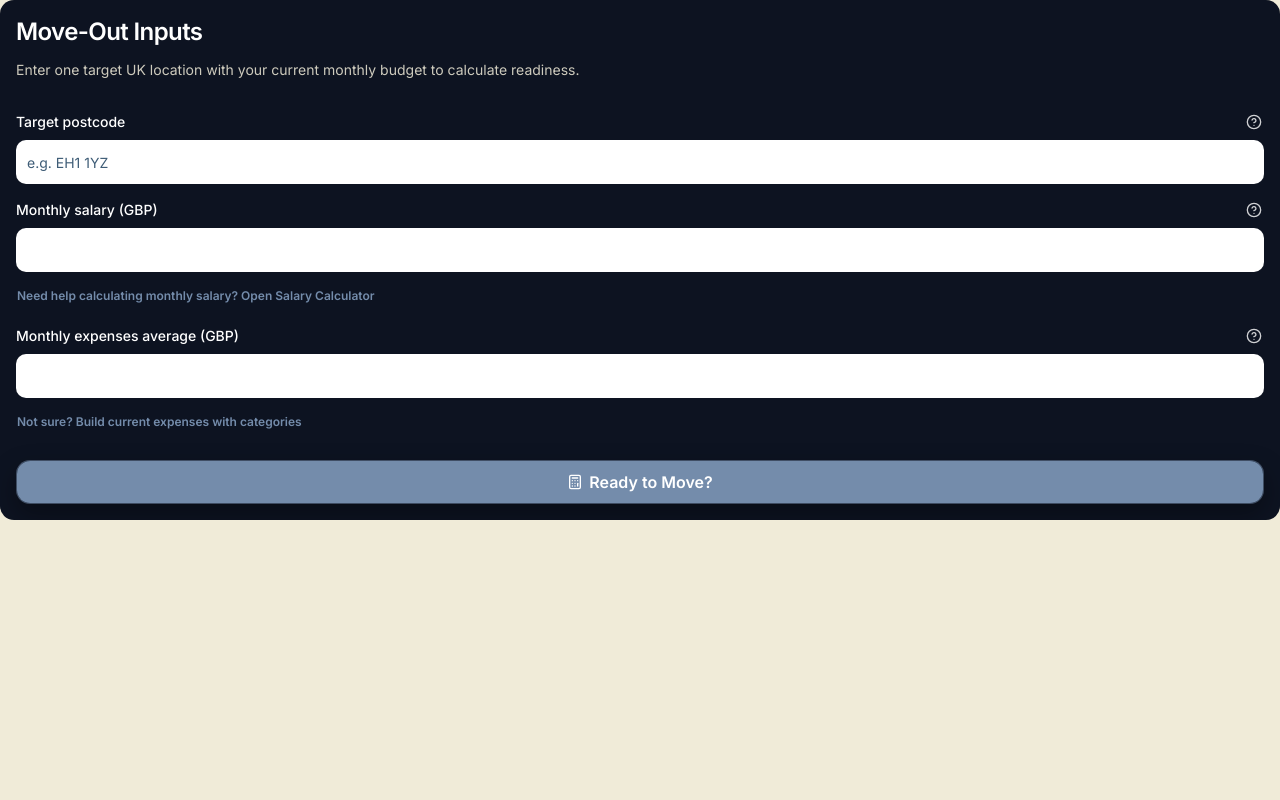
Scenario: MoveOutReadinessInputCard › shows local validation errors for required postcode and positive income
Click the button "Ready to Move?": (640, 482) [16, 460, 1264, 504]
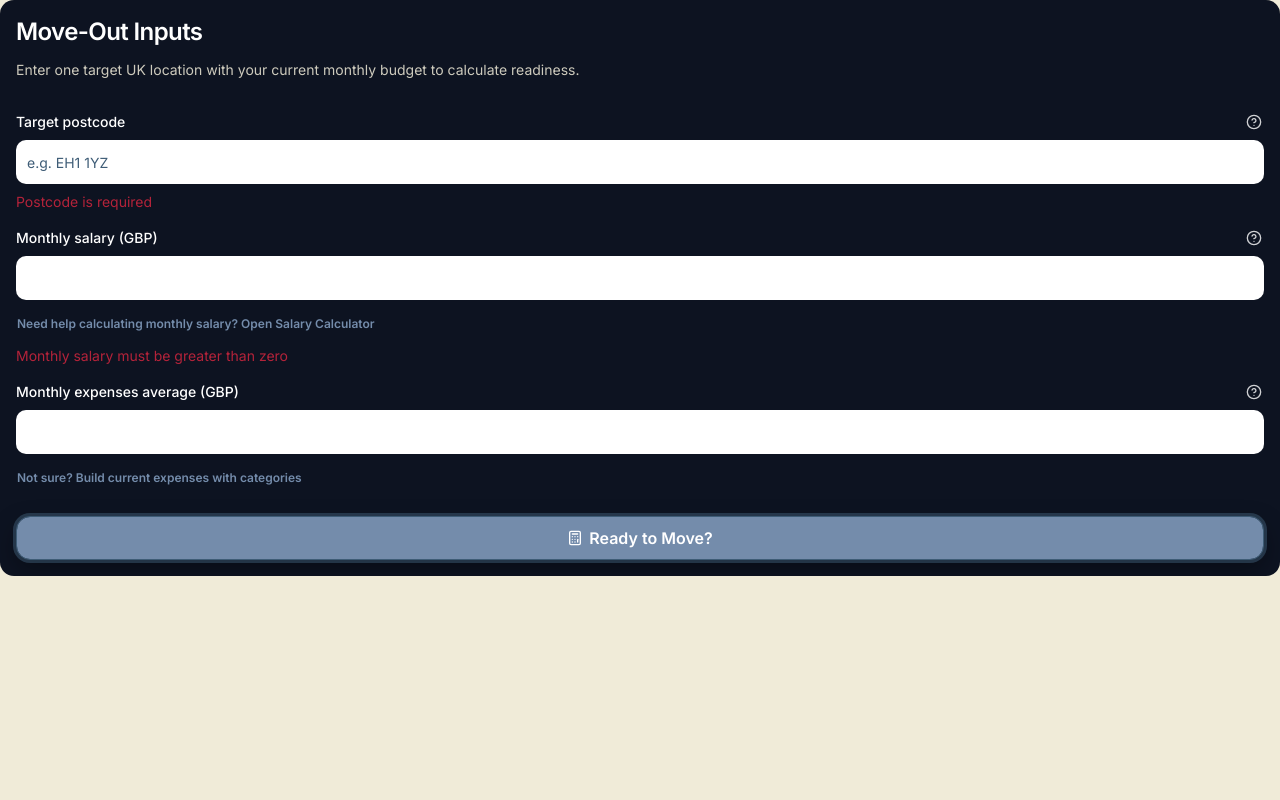
Now the text "Postcode is required" is shown, box [16, 193, 152, 210]
Now the text "Monthly salary must be greater than zero" is shown, box [16, 347, 288, 364]
